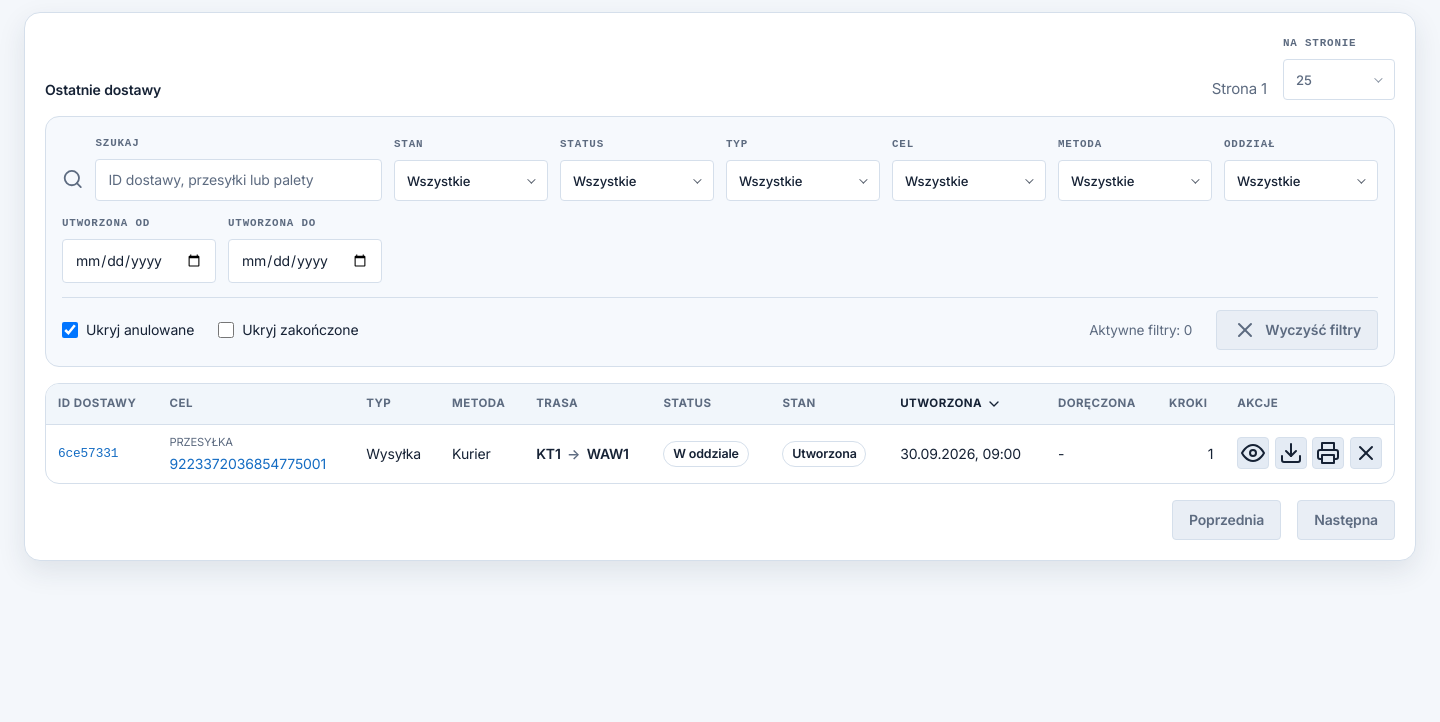
it: Deliveries › changes delivery method and conditions from the operations toolbar
The image size is (1440, 722).
Check: the link "9223372036854775001" is shown, box [170,453,342,474]
Click the button named "Edytuj 6ce57331-8ef7-4a81-bf0f-14baa23231ad" at {"x": 1253, "y": 453}, box [1237,437,1269,469]
(page scrolled)
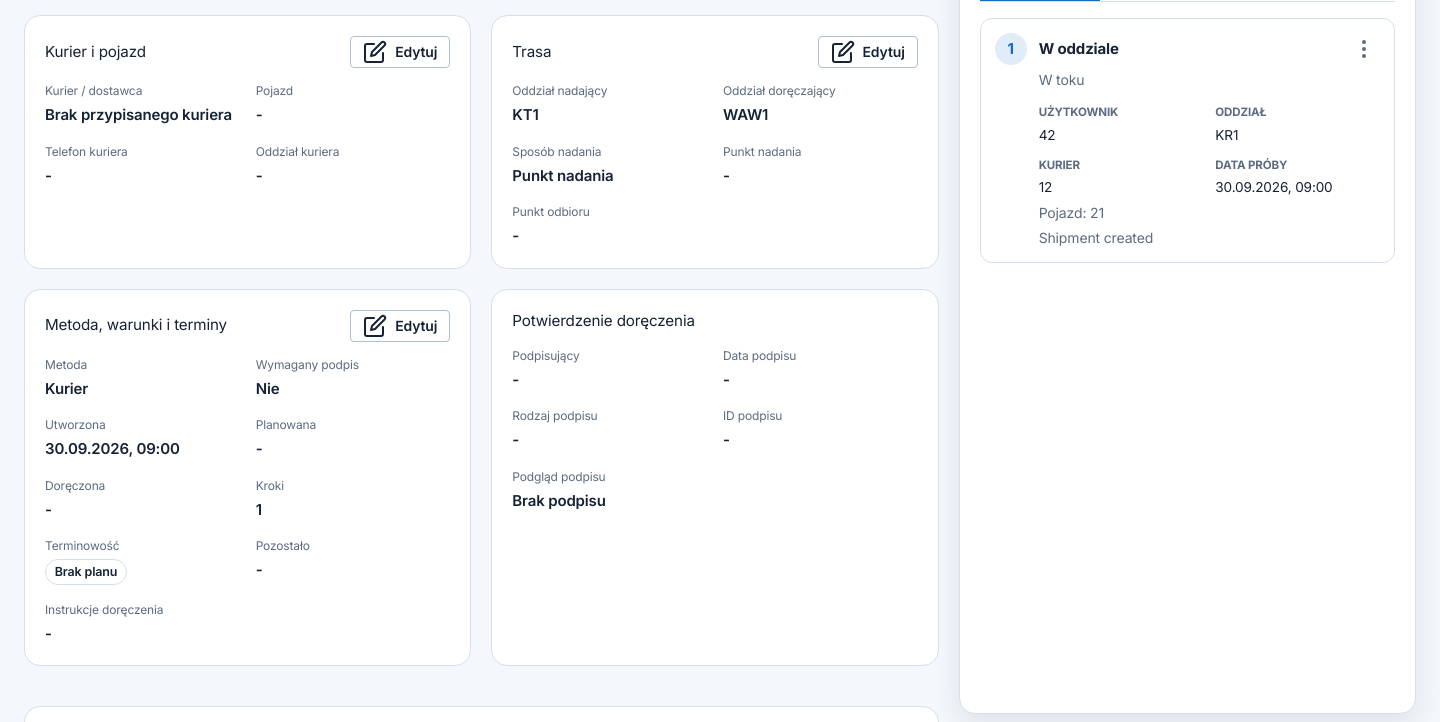
Click the button "Edytuj" next to "Metoda, warunki i terminy" at {"x": 400, "y": 326}, box [350,310,450,342]
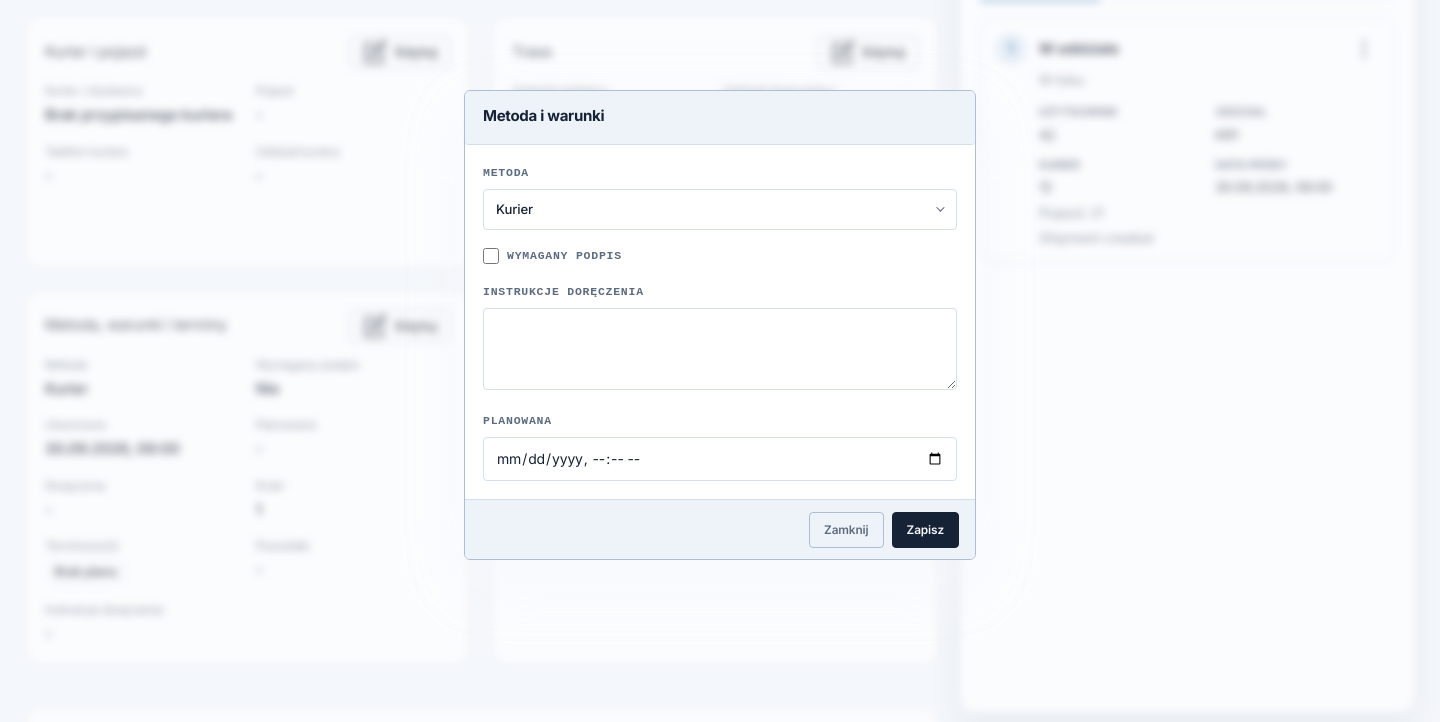
Press the mouse on the dropdown named "Metoda" at {"x": 514, "y": 209}, box [484,190,956,229]
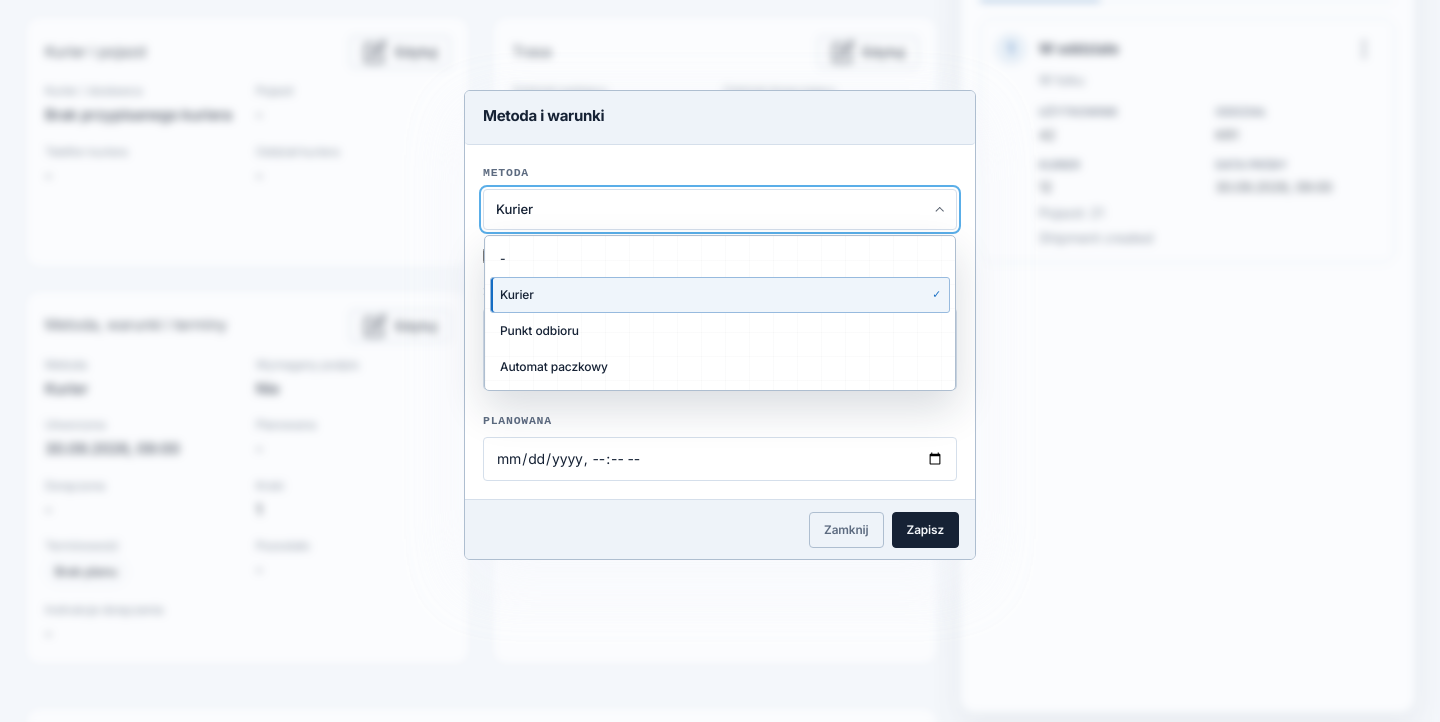
Click the option "Automat paczkowy" at {"x": 554, "y": 366}, box [490,349,950,385]
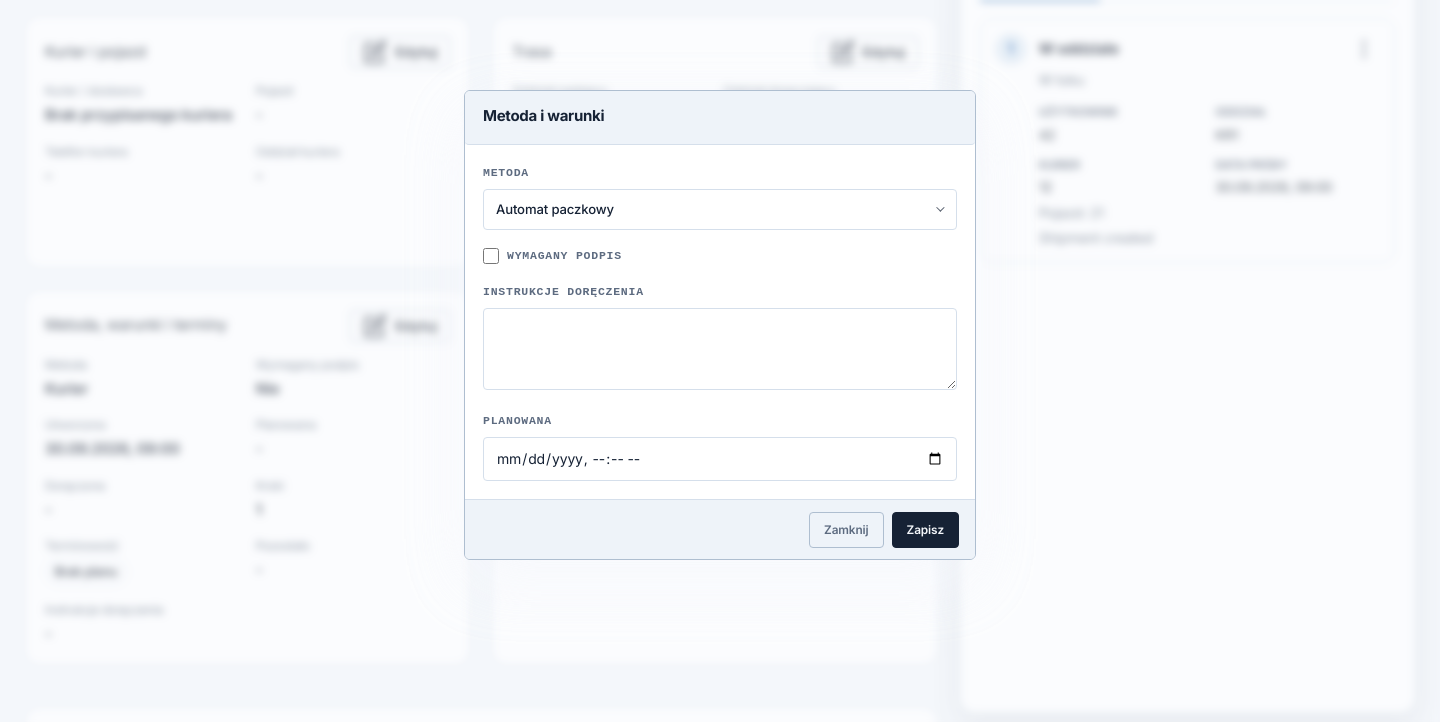
Click the checkbox at {"x": 491, "y": 256}, box [483,248,499,264]
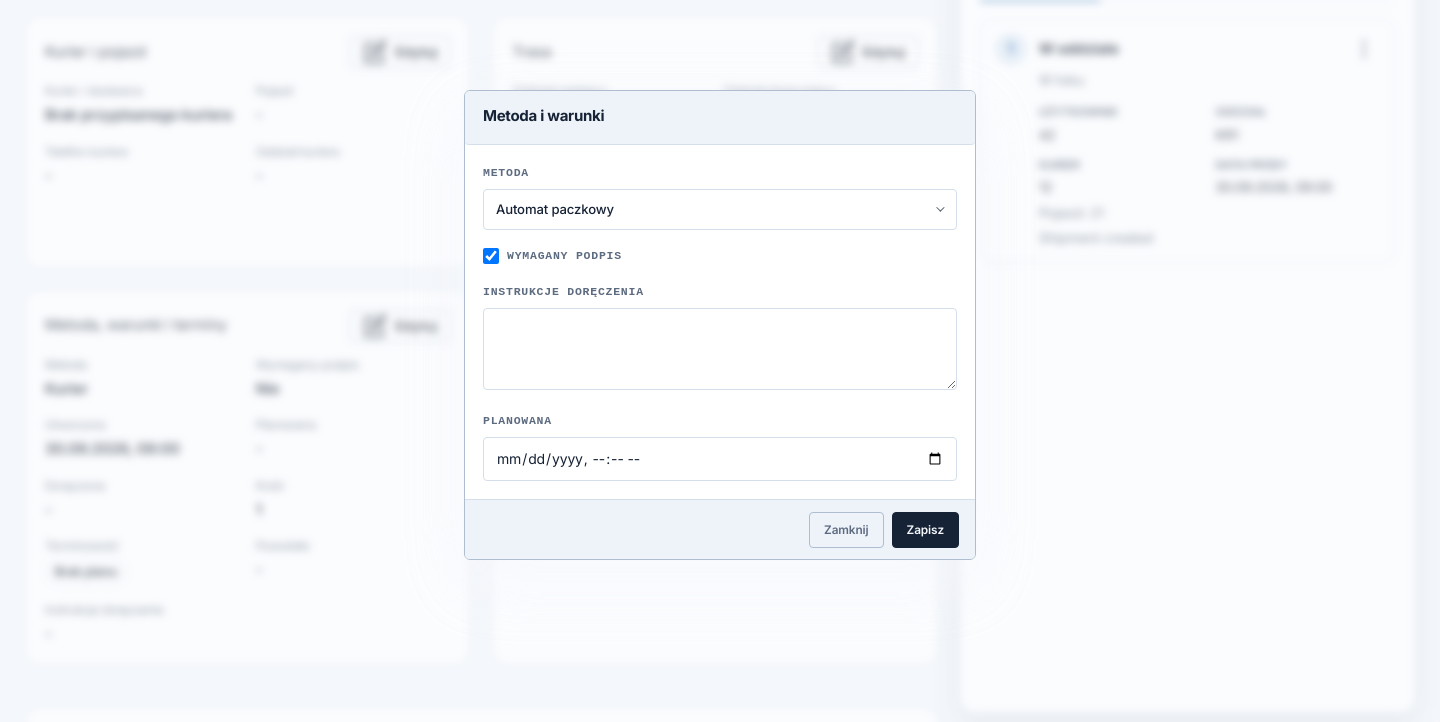
Click the button "Zapisz" at {"x": 925, "y": 530}, box [892,512,959,548]
(page scrolled)
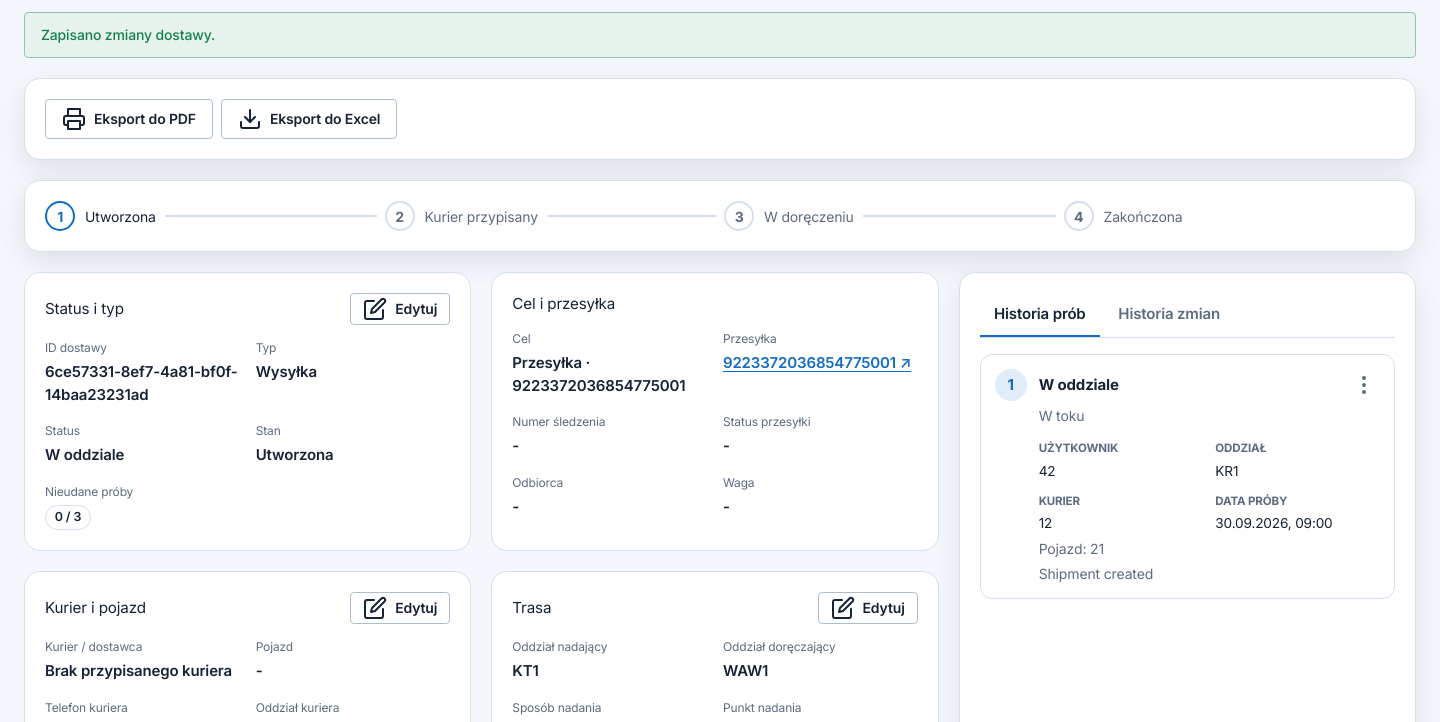
Check: the text "Zapisano zmiany dostawy." is shown, box [41,26,215,43]
